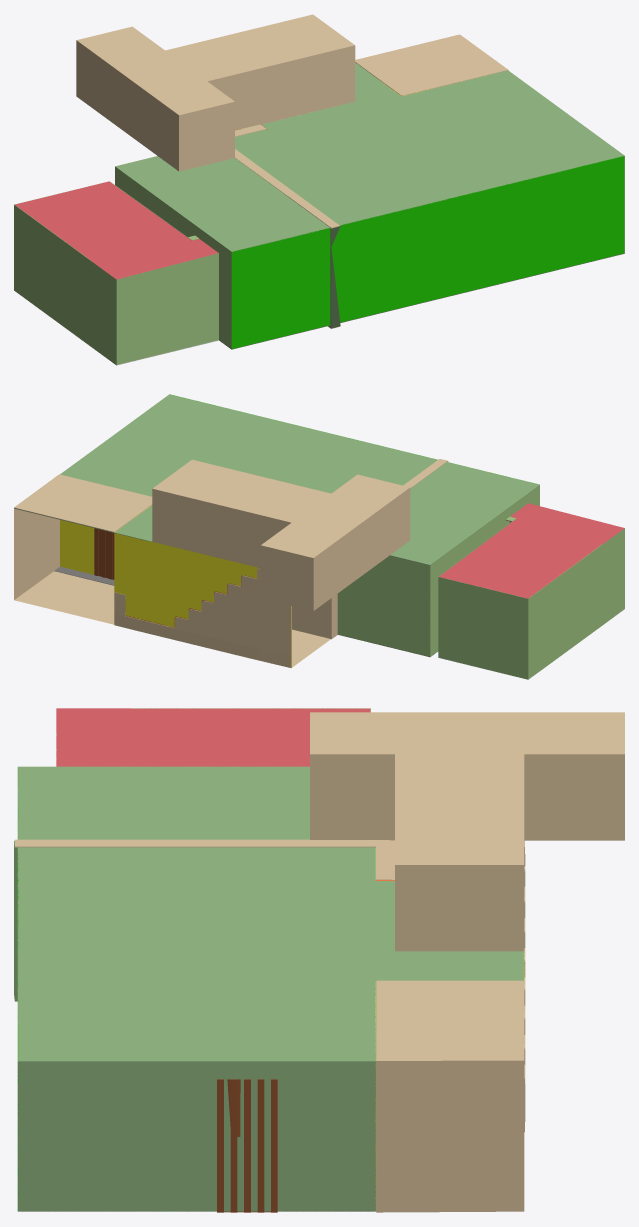
File: CASA solododfy.fbx
3 views of the same model, one above another, from view 1: azimuth 30°, elevation 25°; view 2: azimuth 150°, elevation 25°; view 3: azimuth 270°, elevation 25° (orthographic). The views are drawn at different scales.
Visible parts, largest first — view 1: Cube.012; view 2: Cube.012; view 3: Cube.012.
Boxes of the visible parts, left/top/right/bottom form: Cube.012: left=14, top=14, right=624, bottom=365; Cube.012: left=14, top=394, right=624, bottom=679; Cube.012: left=14, top=708, right=624, bottom=1212.
Bounding box in the file's own units: 943 × 285 × 655.
